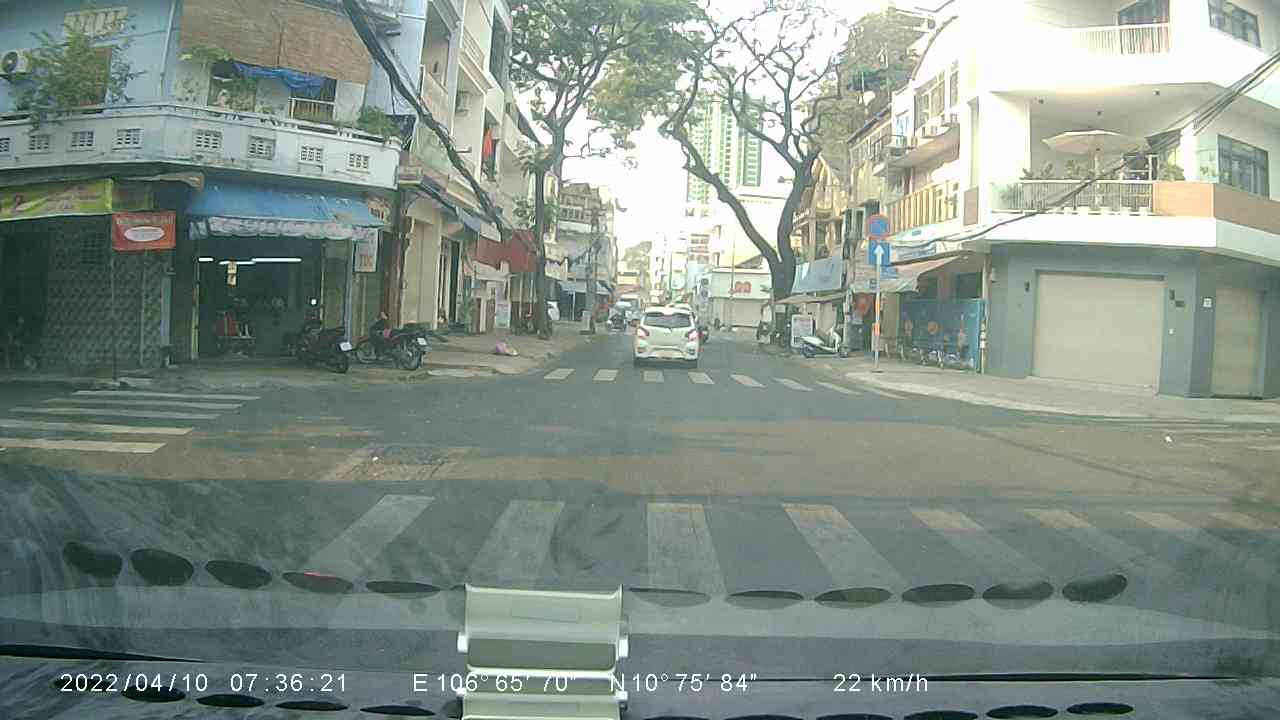Bien khac: (866, 238, 892, 265)
Cam do xe: (864, 209, 892, 240)
